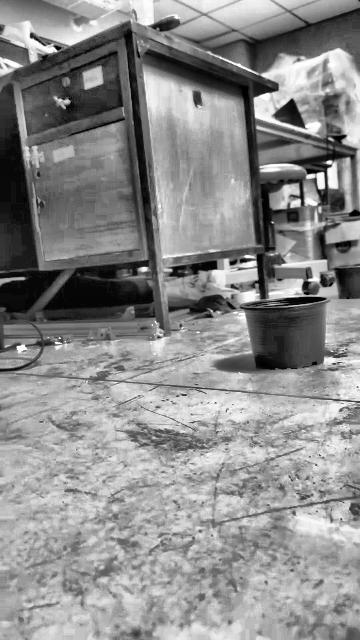pot: (241, 296, 329, 368), (335, 265, 360, 299)
